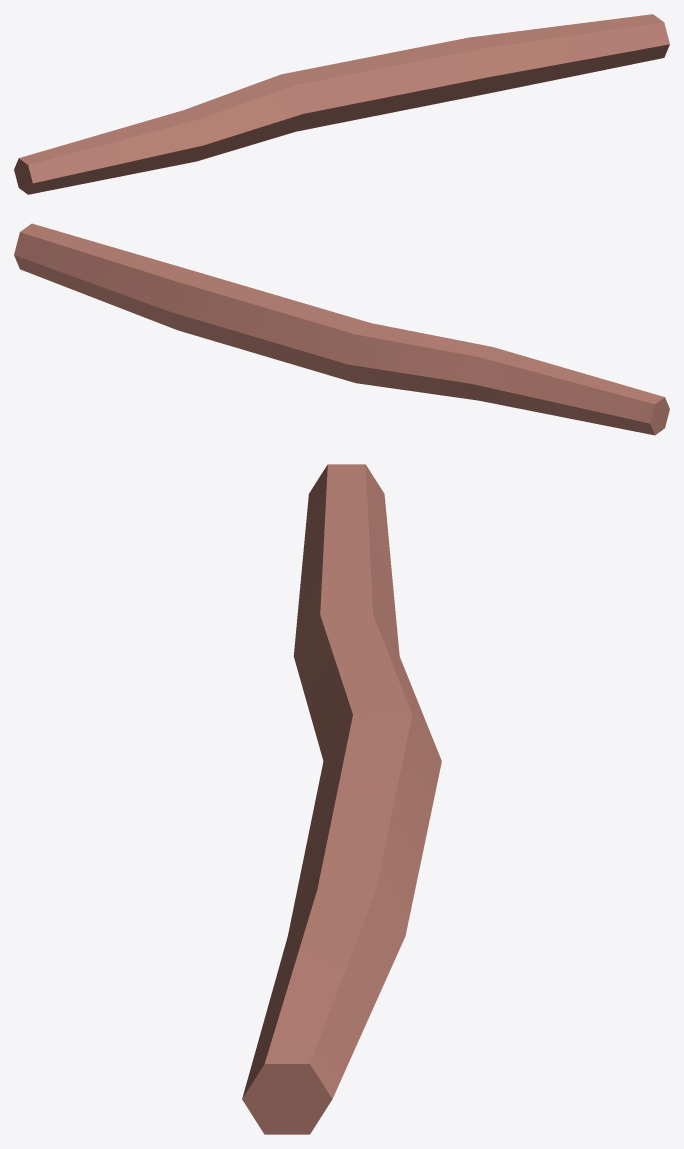
Rendered from wood_pickup_2_v1.fbx.
3 views of the same model, one above another, from view 1: azimuth 30°, elevation 25°; view 2: azimuth 150°, elevation 25°; view 3: azimuth 270°, elevation 25° (orthographic). The views are drawn at different scales.
Visible parts, largest first — view 1: wood_pickup_2; view 2: wood_pickup_2; view 3: wood_pickup_2.
Part boxes in pixels (<box>): wood_pickup_2: <box>14,14,669,194</box>; wood_pickup_2: <box>14,223,669,435</box>; wood_pickup_2: <box>242,464,441,1134</box>.
Size of the model in its own units: 1.74 by 0.1244 by 0.2424.
